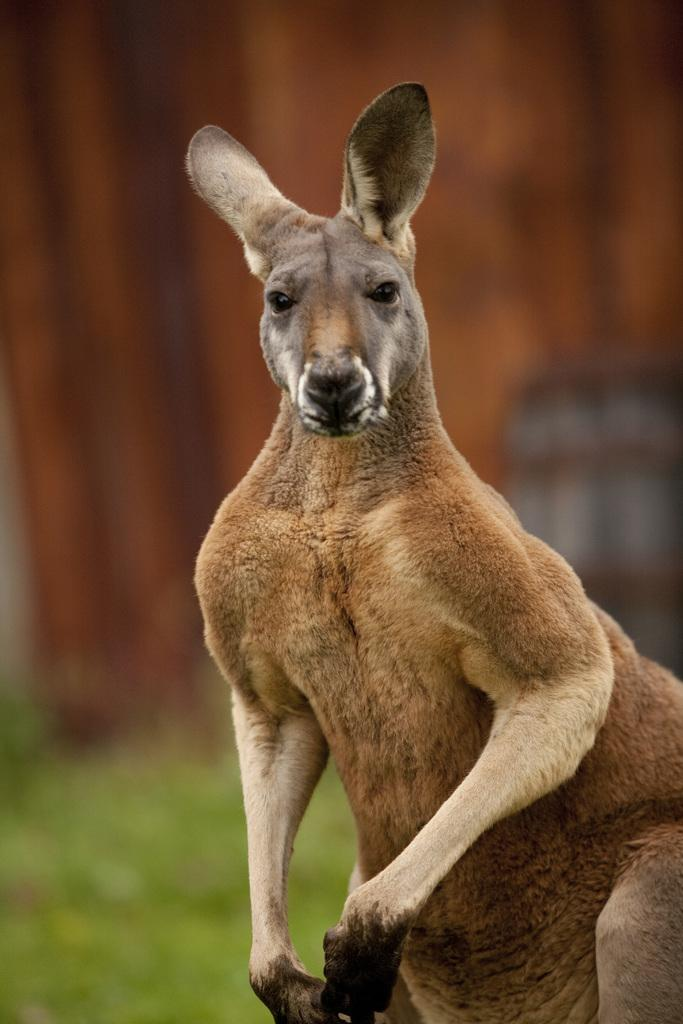kangaroo: (184, 80, 682, 1023)
